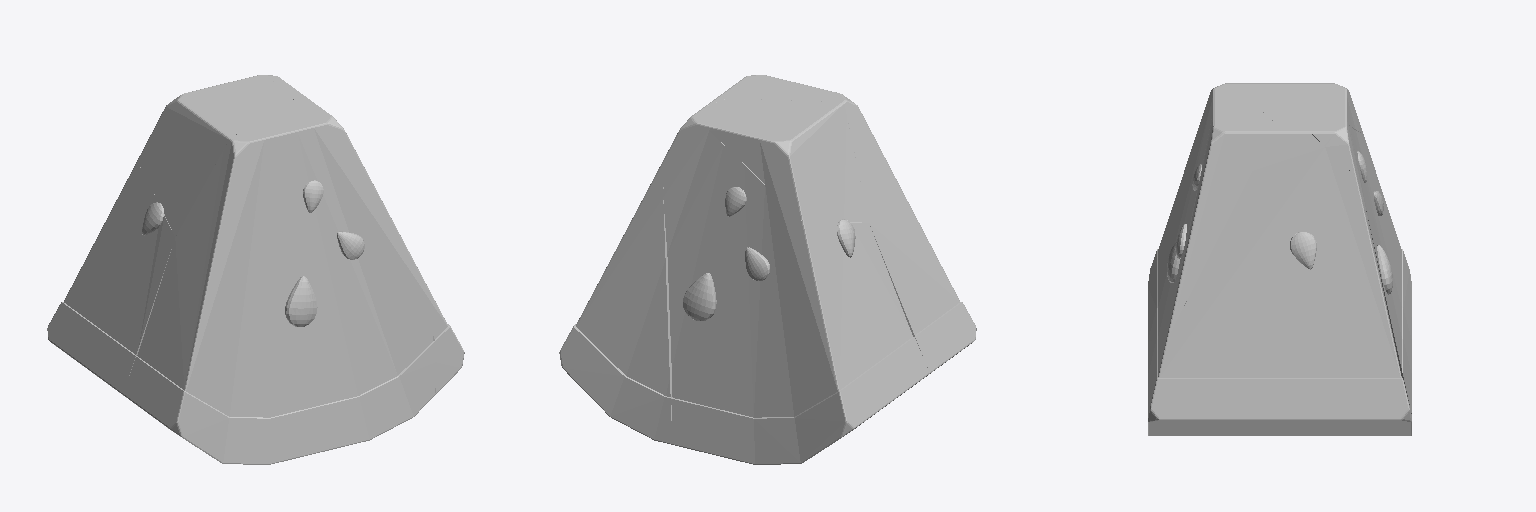
The model's file is watermellon Final 1.obj.
3 views of the same model, side by side, from view 1: azimuth 30°, elevation 25°; view 2: azimuth 150°, elevation 25°; view 3: azimuth 270°, elevation 25° (orthographic).
Visible parts, largest first — view 1: watermelon_cell_watermelon_cell.004; view 2: watermelon_cell_watermelon_cell.004; view 3: watermelon_cell_watermelon_cell.004.
Part boxes in pixels (x1,y1,x2,y2): watermelon_cell_watermelon_cell.004: (47,75,464,464); watermelon_cell_watermelon_cell.004: (559,75,976,464); watermelon_cell_watermelon_cell.004: (1148,83,1411,435).
Size of the model in its own units: 20.85 by 20.01 by 16.22.